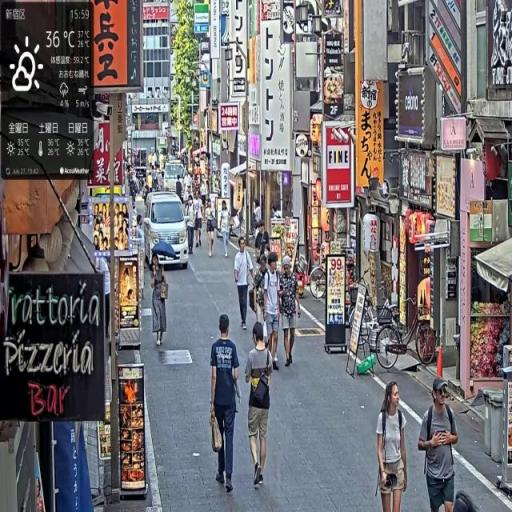person: (210, 311, 243, 497), (417, 374, 461, 512), (245, 319, 275, 489), (375, 378, 410, 512), (259, 252, 282, 373), (279, 255, 303, 370), (235, 236, 259, 333), (151, 252, 171, 350), (221, 199, 232, 260), (207, 202, 218, 260)
